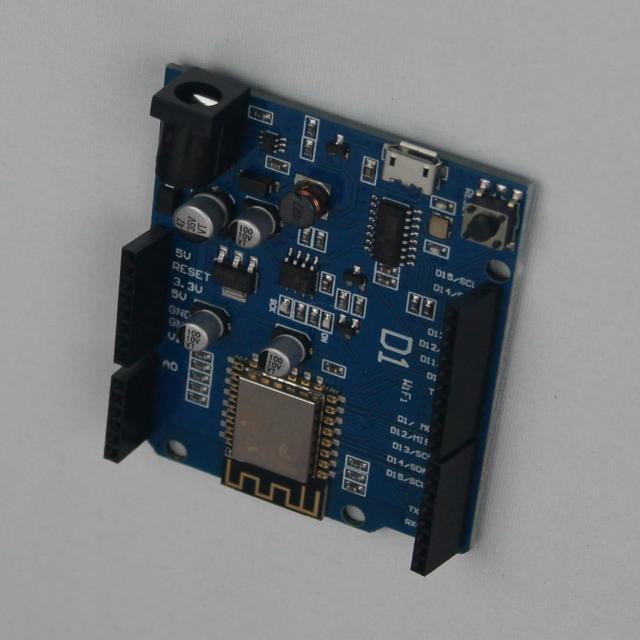Arduino Uno WiFi Shield: (105, 65, 533, 576)
